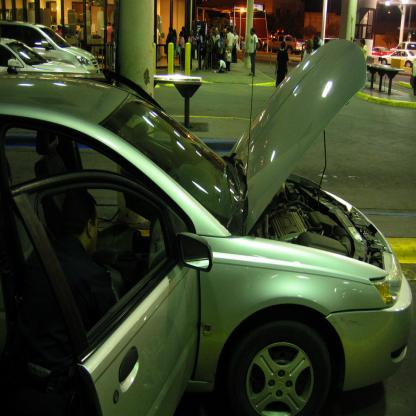Car: (9, 55, 411, 406), (0, 14, 101, 75), (0, 36, 89, 75), (381, 49, 415, 68), (394, 38, 416, 56)
